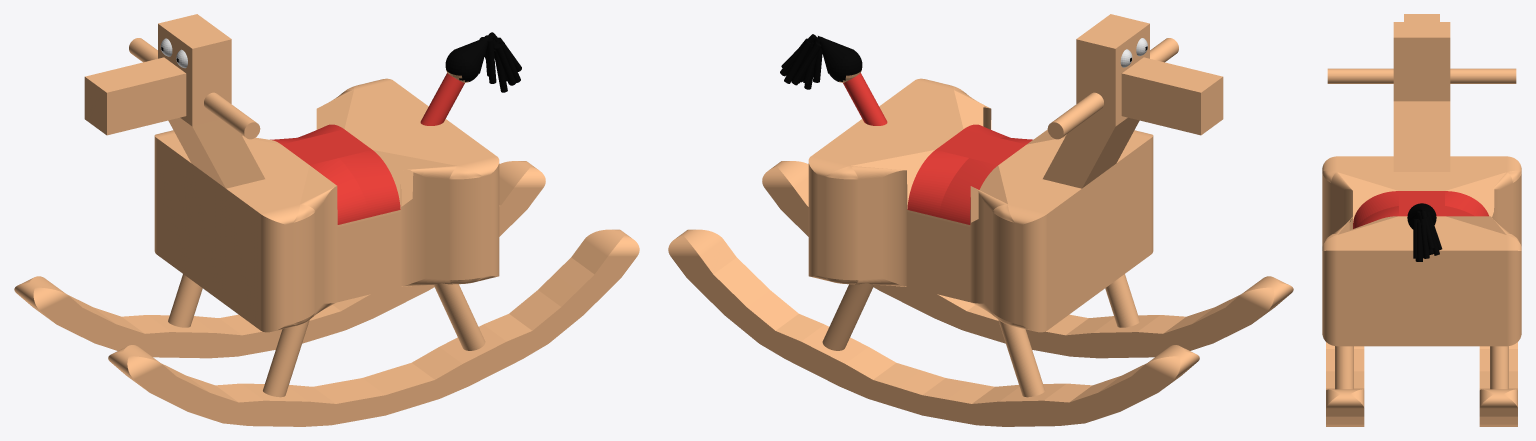
Rendered from horsy.fbx.
3 renders of one model, left to right at view 1: azimuth 30°, elevation 25°; view 2: azimuth 150°, elevation 25°; view 3: azimuth 270°, elevation 25°, orthographic. The views are drawn at different scales.
Parts seen in each view (by area): view 1: Horsy; view 2: Horsy; view 3: Horsy.
Part boxes in pixels (bbox=[...]): Horsy: bbox=[14, 14, 639, 426]; Horsy: bbox=[668, 14, 1293, 426]; Horsy: bbox=[1322, 14, 1521, 426].
Bounding box in the file's own units: 2076 × 1451 × 858.
